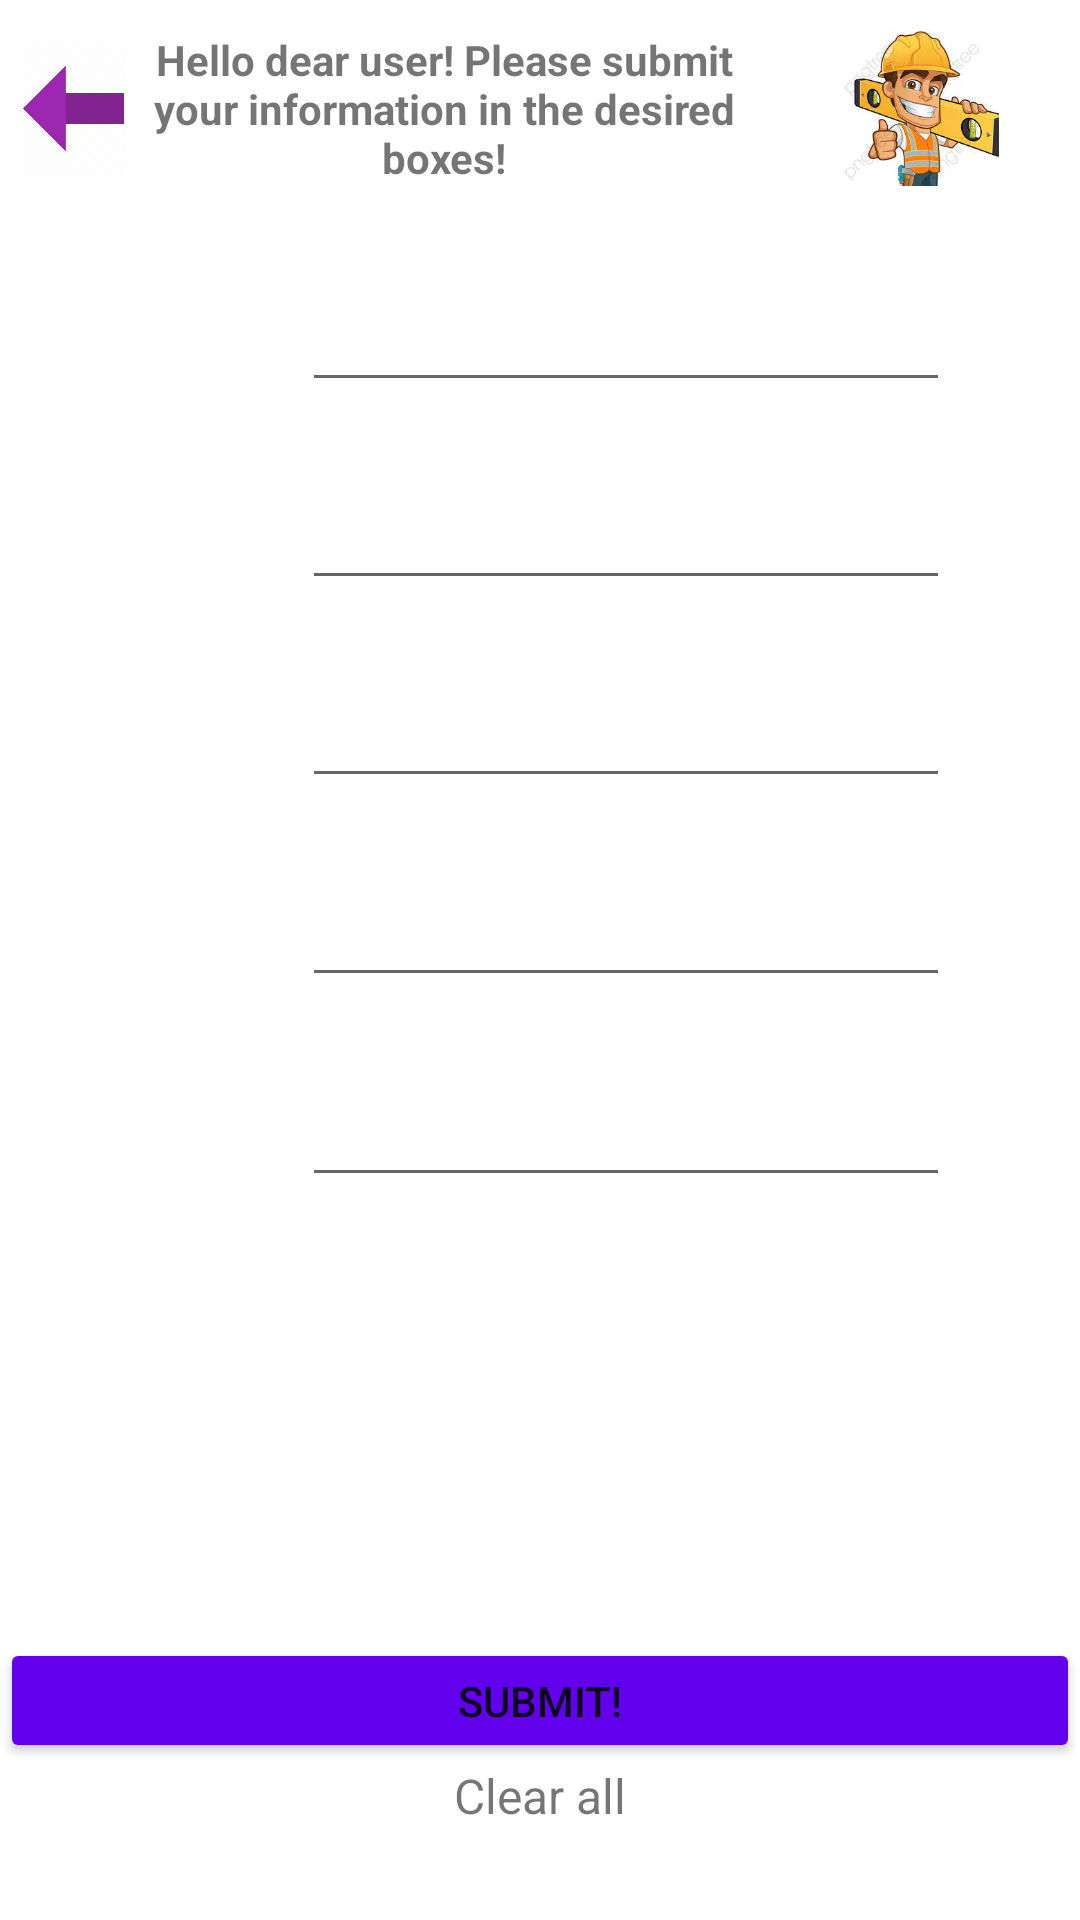

Where to tap for icons on this 1080w x 1920h app screen, as (x,y):
worker: (922,108)
